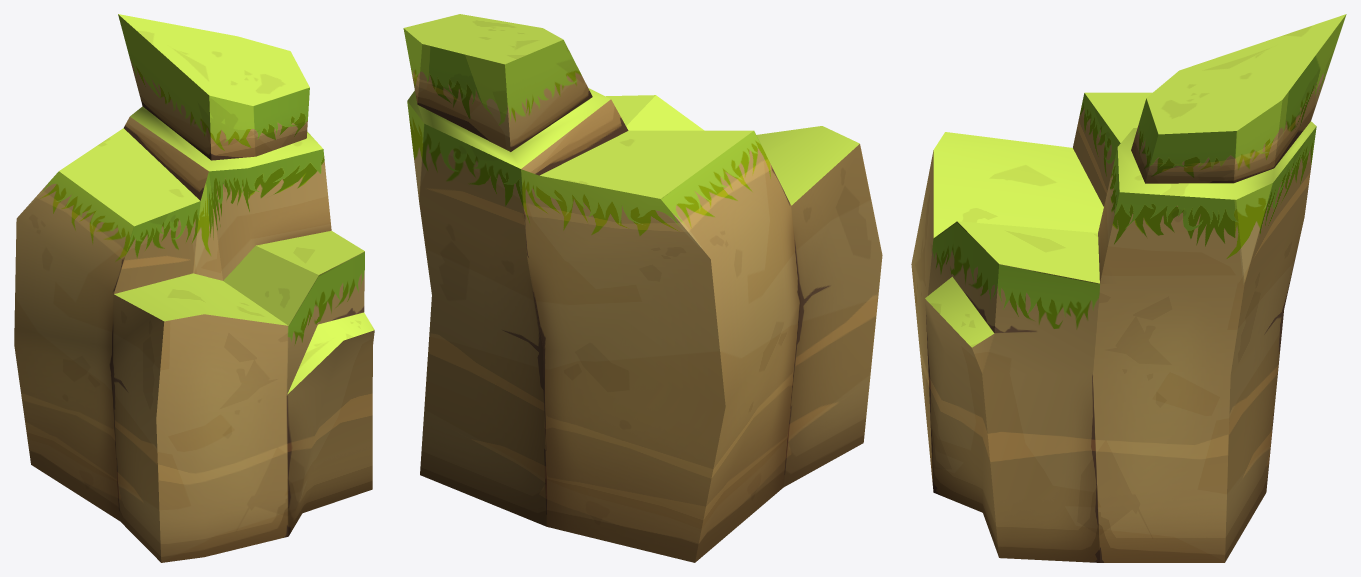
Rendered from F_W_O_rock_015.fbx.
3 views of the same model, side by side, from view 1: azimuth 30°, elevation 25°; view 2: azimuth 150°, elevation 25°; view 3: azimuth 270°, elevation 25° (orthographic). The views are drawn at different scales.
Visible parts, largest first — view 1: F_W_O_rock_015; view 2: F_W_O_rock_015; view 3: F_W_O_rock_015.
Boxes of the visible parts, box(x1,y1,x2,y2) form: F_W_O_rock_015: box(14, 14, 374, 562); F_W_O_rock_015: box(403, 14, 882, 562); F_W_O_rock_015: box(911, 14, 1346, 562).
Bounding box in the file's own units: 10.3 × 14.58 × 12.
